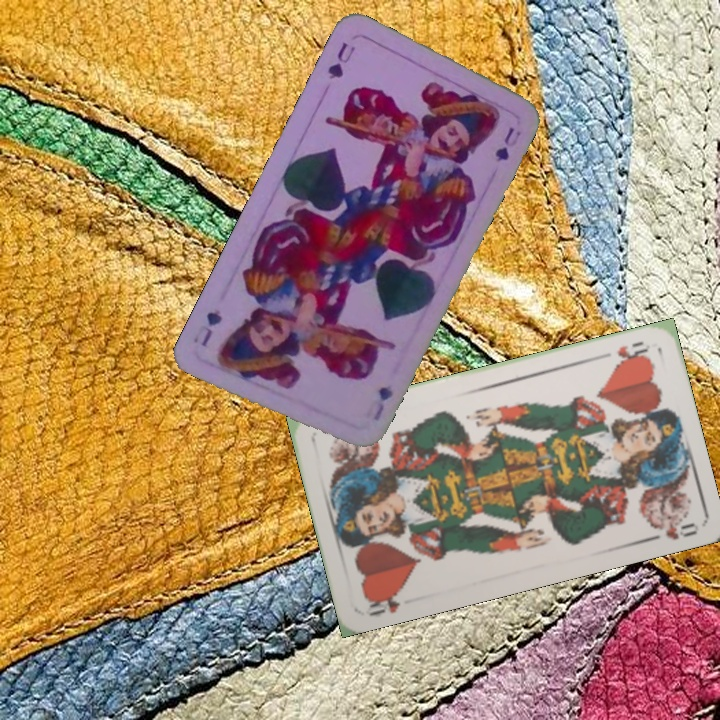GU: (323, 38, 358, 82), (369, 381, 396, 424)
HO: (595, 337, 653, 368), (362, 586, 403, 619)
